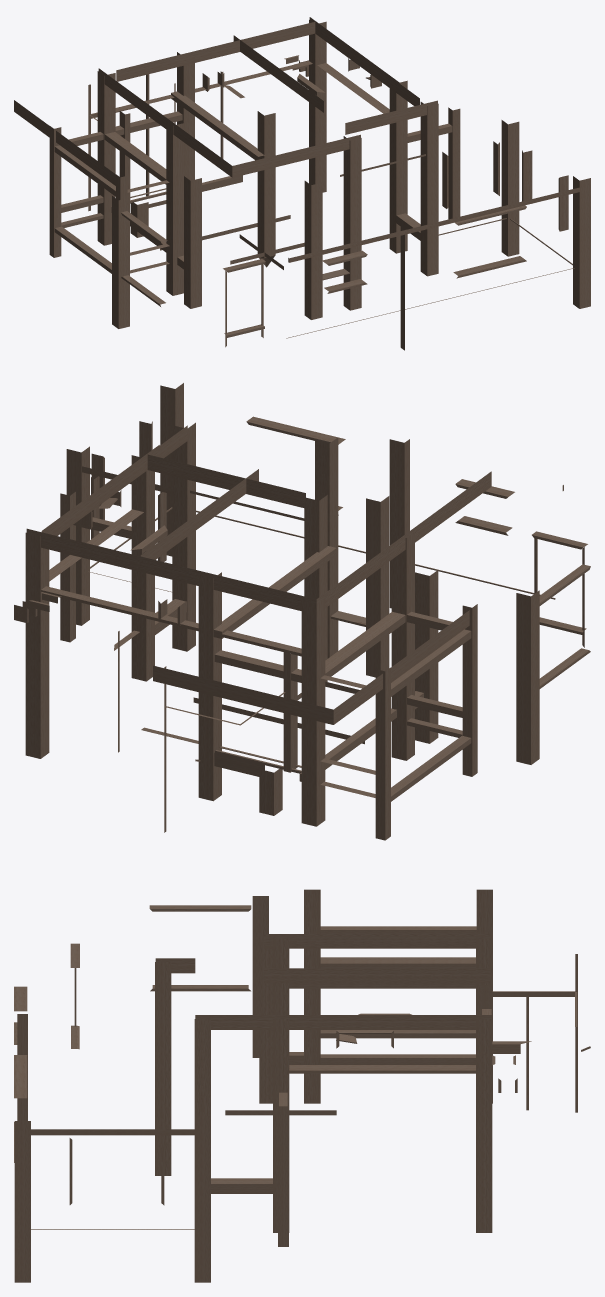
Rendered from kd_stage_135d18_4_35.glb.
The picture shows the model from 3 angles, top to bottom: view 1: azimuth 30°, elevation 25°; view 2: azimuth 150°, elevation 25°; view 3: azimuth 270°, elevation 25°; orthographic projection. The views are drawn at different scales.
Parts seen in each view (by area): view 1: kd_stage_135d18_4_35; view 2: kd_stage_135d18_4_35; view 3: kd_stage_135d18_4_35.
Part boxes in pixels (x1,y1,x2,y2): kd_stage_135d18_4_35: (14, 17, 590, 350); kd_stage_135d18_4_35: (14, 383, 590, 840); kd_stage_135d18_4_35: (14, 889, 590, 1282).
Bounding box in the file's own units: 9.98 × 4.39 × 10.51.
Materials: 1 (1 with a texture image).
